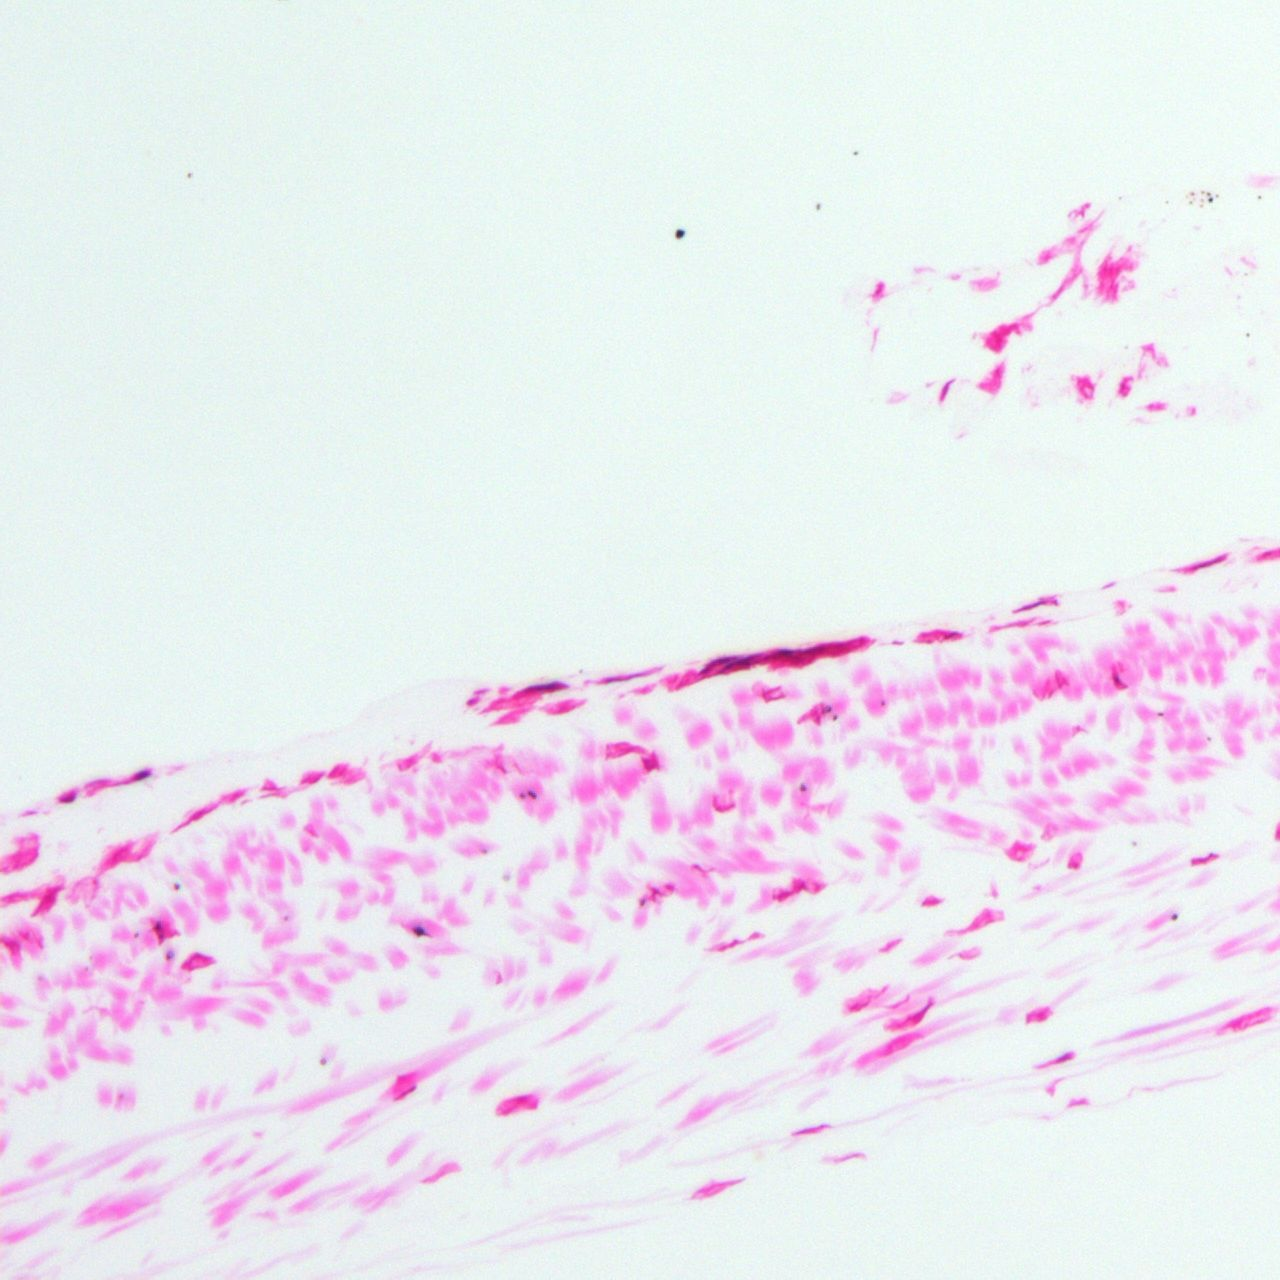dust: (413, 926, 425, 937), (674, 229, 685, 239), (526, 790, 537, 799), (823, 704, 831, 712), (799, 783, 806, 791), (639, 898, 646, 906), (1170, 913, 1178, 920), (813, 200, 821, 209), (184, 171, 191, 179), (173, 881, 179, 890), (519, 792, 525, 799), (1207, 197, 1213, 203), (165, 953, 171, 959), (1131, 840, 1137, 846), (1245, 331, 1250, 338), (1187, 190, 1194, 195), (132, 932, 139, 937), (1257, 195, 1262, 199), (1157, 712, 1163, 716), (282, 915, 288, 920), (853, 150, 857, 157), (1200, 190, 1205, 195), (1198, 203, 1203, 207), (1187, 200, 1192, 205), (1206, 736, 1211, 741), (832, 715, 836, 721), (1199, 197, 1204, 200), (1191, 196, 1194, 200), (1118, 195, 1122, 199), (88, 955, 91, 960), (84, 966, 88, 971), (1206, 191, 1210, 195), (1164, 200, 1167, 204), (880, 701, 884, 704), (1214, 195, 1218, 197)
nucleus-FG: (166, 801, 215, 836), (32, 880, 64, 919), (1177, 552, 1228, 576), (495, 1091, 538, 1118), (721, 651, 762, 674), (179, 947, 215, 974), (905, 998, 935, 1028), (697, 651, 736, 674), (1012, 597, 1049, 615), (774, 881, 804, 904), (522, 680, 565, 695), (148, 918, 169, 942), (1191, 851, 1219, 866), (639, 753, 660, 772), (716, 937, 741, 953), (302, 770, 325, 787), (130, 765, 152, 782), (396, 1084, 420, 1099), (0, 937, 18, 954), (1111, 674, 1126, 692), (938, 380, 949, 402), (799, 646, 826, 654), (1057, 1051, 1073, 1064), (651, 886, 662, 903), (57, 794, 76, 803), (941, 631, 960, 639), (775, 649, 792, 656)
